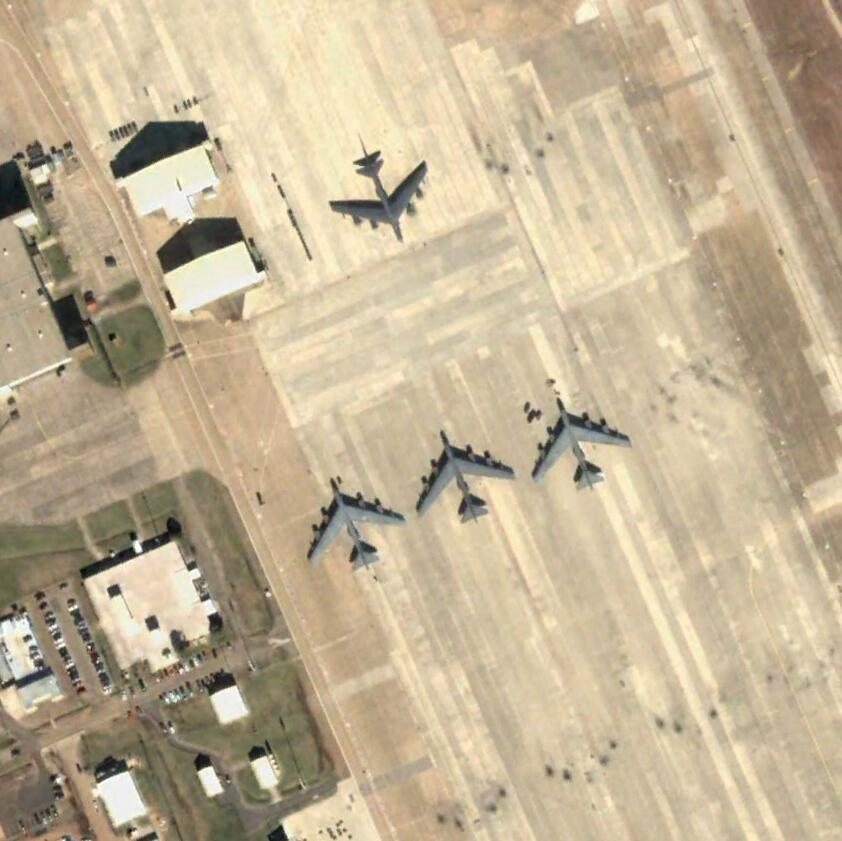A8: (326, 138, 436, 244), (527, 395, 635, 494), (302, 474, 406, 574), (414, 428, 519, 527)
